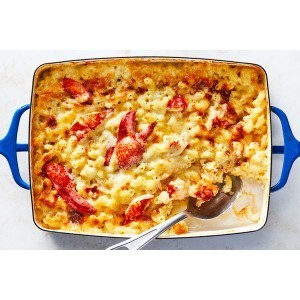cheese_brain food: (75, 91, 199, 198)
